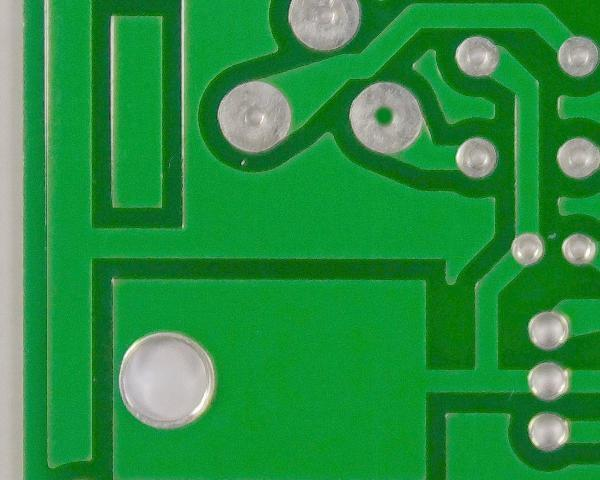missing hole: (345, 78, 425, 159)
